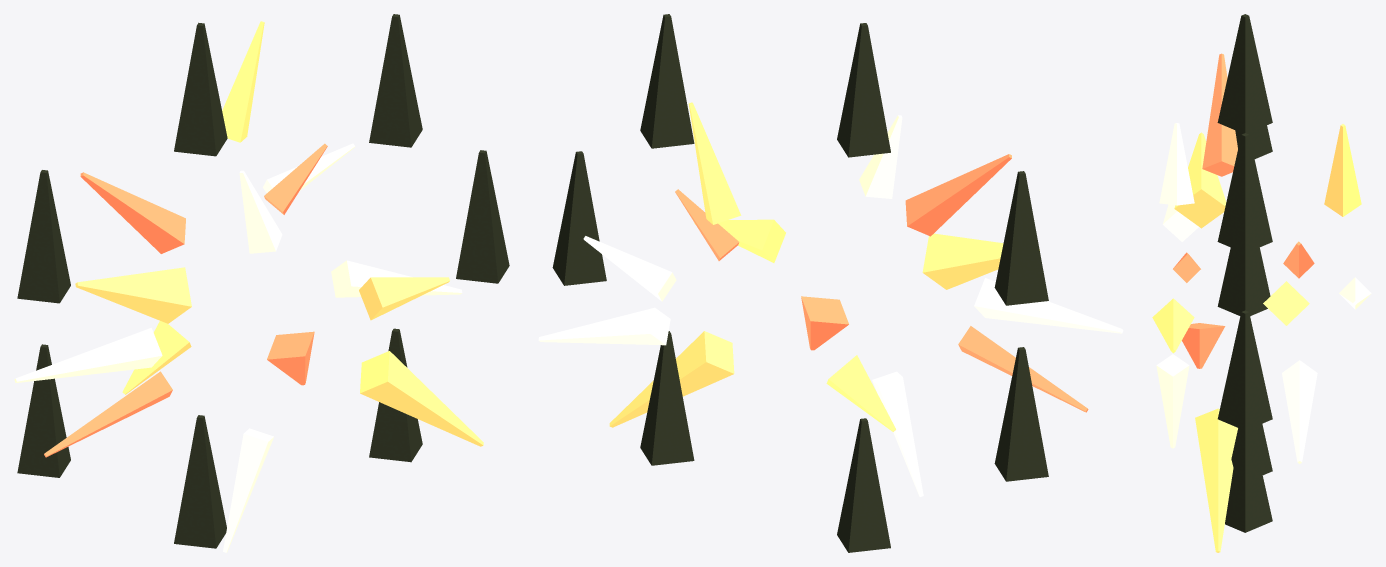
File: rocketburst.glb
The picture shows the model from 3 angles, left to right: view 1: azimuth 30°, elevation 25°; view 2: azimuth 150°, elevation 25°; view 3: azimuth 270°, elevation 25°; orthographic projection. The views are drawn at different scales.
Parts seen in each view (by area): view 1: Rocket Burst dimensional effect.001; view 2: Rocket Burst dimensional effect.001; view 3: Rocket Burst dimensional effect.001.
Boxes of the visible parts, box(x1,y1,x2,y2) form: Rocket Burst dimensional effect.001: box(14, 14, 509, 552); Rocket Burst dimensional effect.001: box(538, 14, 1123, 552); Rocket Burst dimensional effect.001: box(1152, 14, 1371, 552).
Bounding box in the file's own units: 1.38 × 1.27 × 0.5567.
4 materials, 1 textured.
